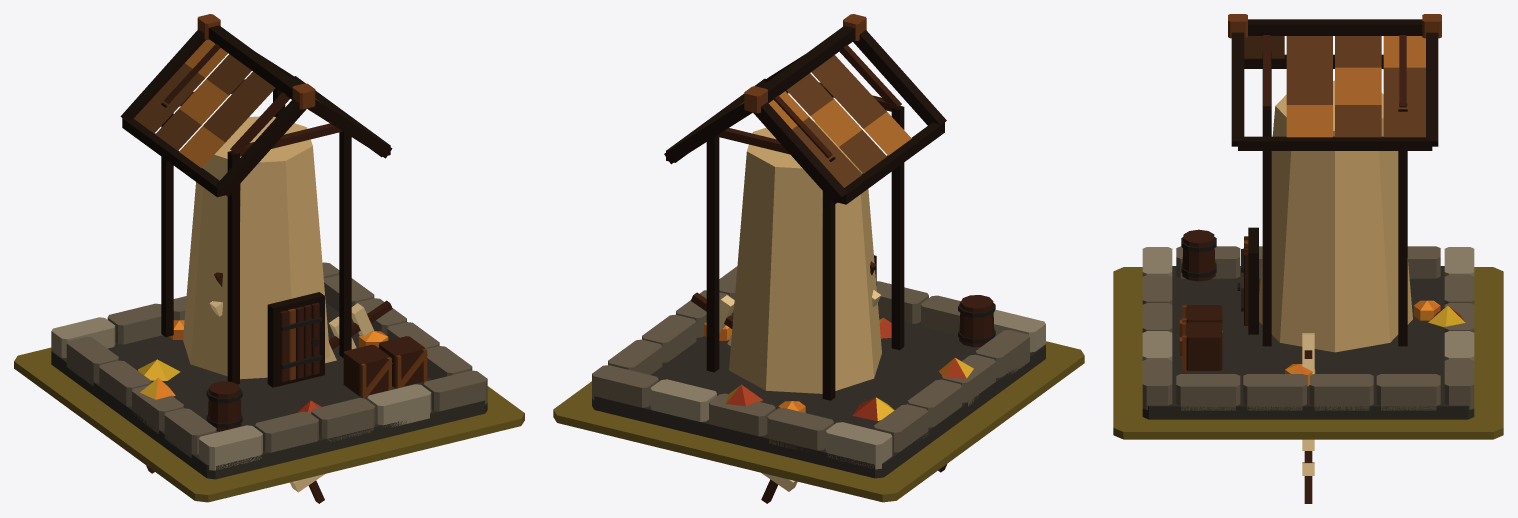
The model's file is mill_t1.glb.
The picture shows the model from 3 angles, left to right: view 1: azimuth 30°, elevation 25°; view 2: azimuth 150°, elevation 25°; view 3: azimuth 270°, elevation 25°; orthographic projection. The views are drawn at different scales.
Parts seen in each view (by area): view 1: MMR | mill | T01 Architecture.001, MMR | mill | Tier 01 Ground.001, MMR | mill | T01 Wind Rotor.001, MMR | mill | T01 Autumn Dressing.001; view 2: MMR | mill | T01 Architecture.001, MMR | mill | Tier 01 Ground.001, MMR | mill | T01 Autumn Dressing.001, MMR | mill | T01 Wind Rotor.001; view 3: MMR | mill | T01 Architecture.001, MMR | mill | Tier 01 Ground.001, MMR | mill | T01 Autumn Dressing.001, MMR | mill | T01 Wind Rotor.001.
Boxes of the visible parts, x1,y1,x2,y2 form: MMR | mill | T01 Architecture.001: [51, 14, 487, 479]; MMR | mill | Tier 01 Ground.001: [14, 347, 524, 502]; MMR | mill | T01 Wind Rotor.001: [146, 272, 392, 503]; MMR | mill | T01 Autumn Dressing.001: [138, 320, 388, 413]; MMR | mill | T01 Architecture.001: [592, 14, 1045, 478]; MMR | mill | Tier 01 Ground.001: [553, 341, 1084, 502]; MMR | mill | T01 Autumn Dressing.001: [704, 317, 973, 420]; MMR | mill | T01 Wind Rotor.001: [691, 261, 946, 503]; MMR | mill | T01 Architecture.001: [1142, 14, 1474, 419]; MMR | mill | Tier 01 Ground.001: [1113, 267, 1503, 439]; MMR | mill | T01 Autumn Dressing.001: [1222, 300, 1465, 386]; MMR | mill | T01 Wind Rotor.001: [1302, 333, 1314, 503].
Size of the model in its own units: 2.35 by 3.07 by 2.35.
Materials: 1 (1 with a texture image).
